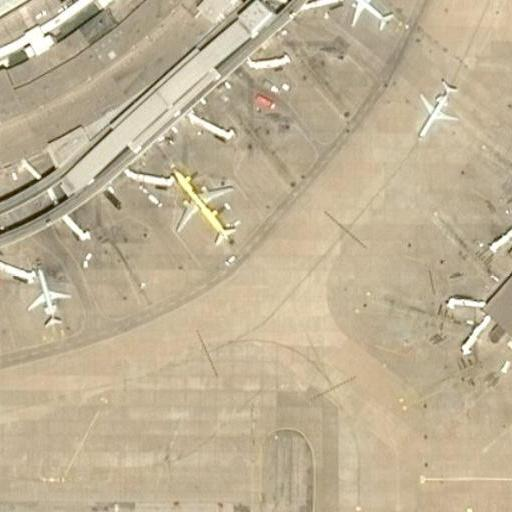Aircraft: (168, 168, 240, 251), (25, 267, 70, 330), (414, 77, 456, 143), (333, 0, 397, 31)
